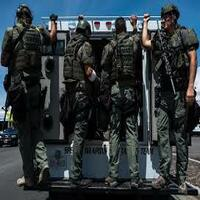person: (1, 1, 52, 74), (107, 7, 143, 89), (152, 3, 197, 66), (63, 7, 98, 81)
